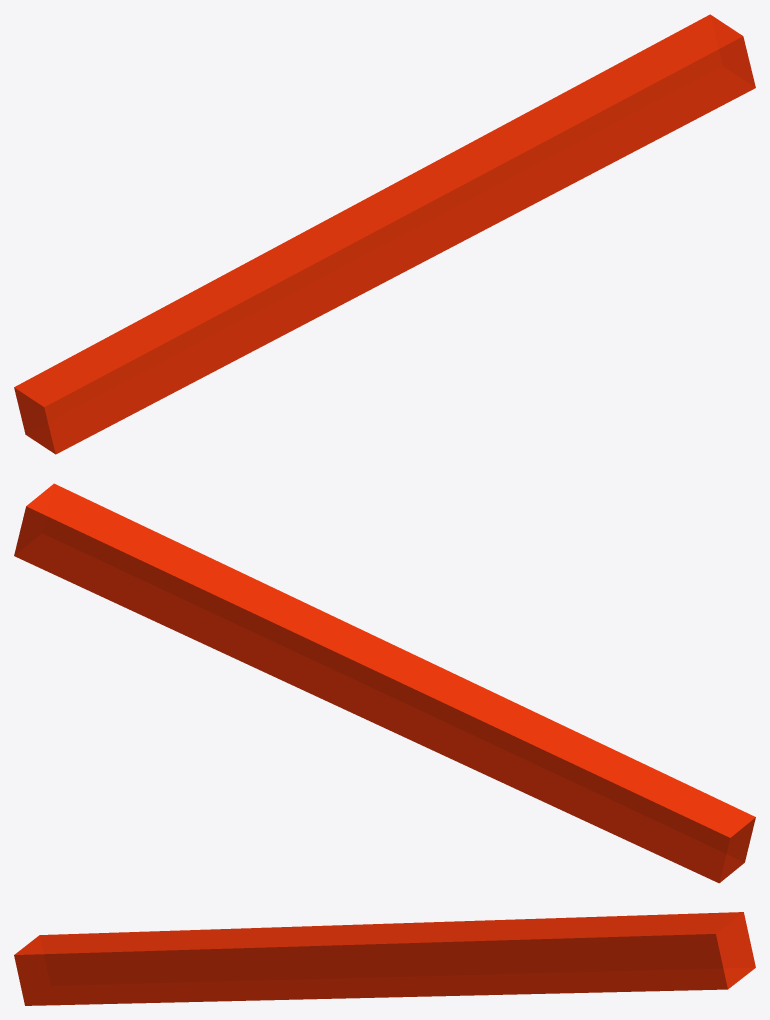
The model's file is Event_421364160_EErechit_34.fbx.
3 renders of one model, top to bottom at view 1: azimuth 30°, elevation 25°; view 2: azimuth 150°, elevation 25°; view 3: azimuth 330°, elevation 25°, orthographic. The views are drawn at different scales.
Visible parts, largest first — view 1: Model; view 2: Model; view 3: Model.
Part boxes in pixels (x1,y1,x2,y2): Model: (14,14,755,454); Model: (14,483,755,883); Model: (14,912,755,1005).
Size of the model in its own units: 1.07 by 0.331 by 0.1202.
